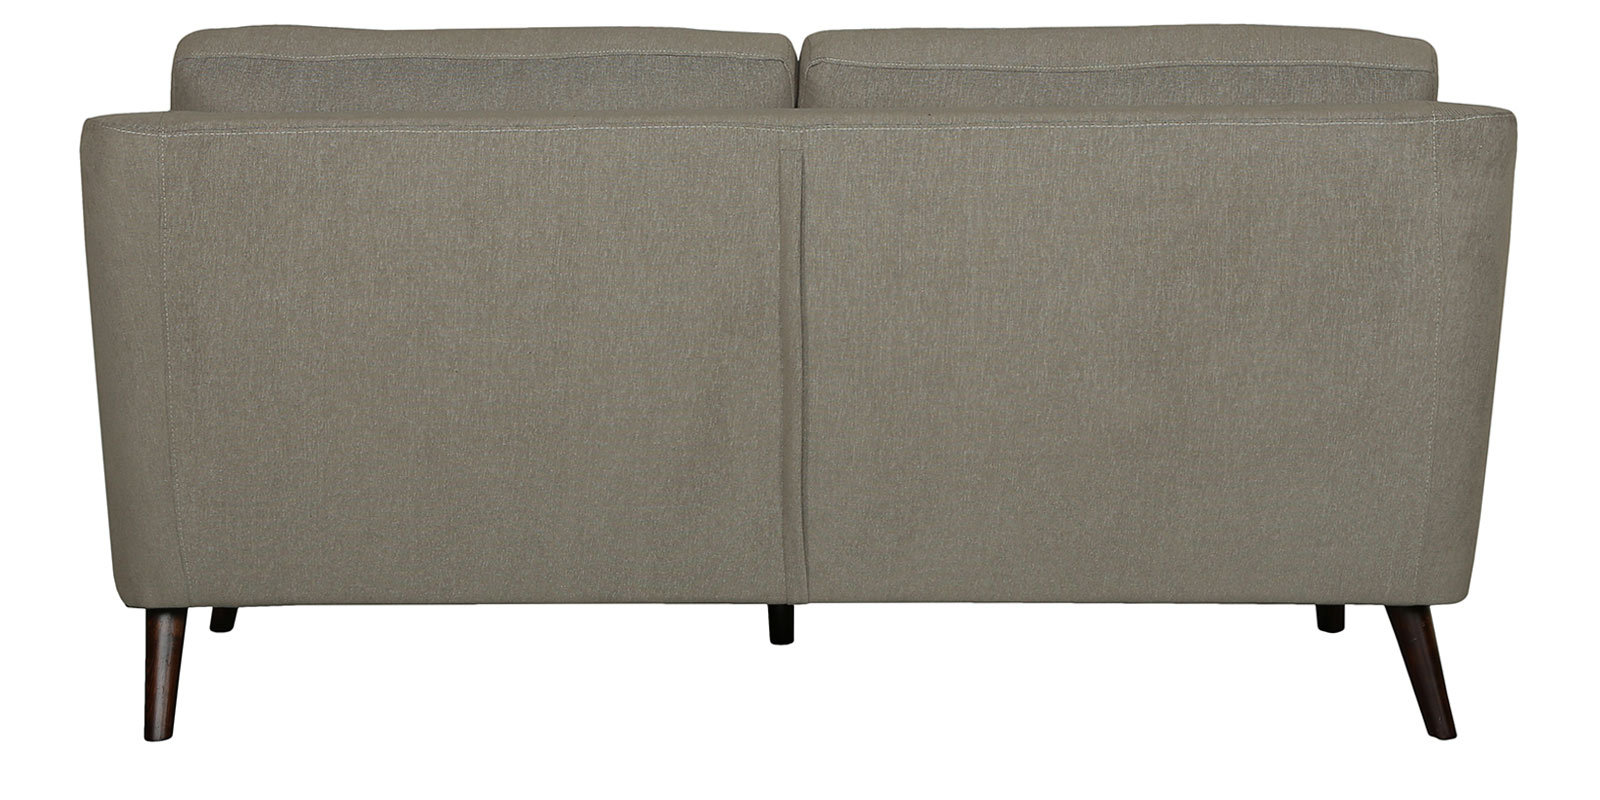Juan Three Seater Sofs in Sandy Brown Colour by CasaCraft: (76, 21, 1521, 741)
